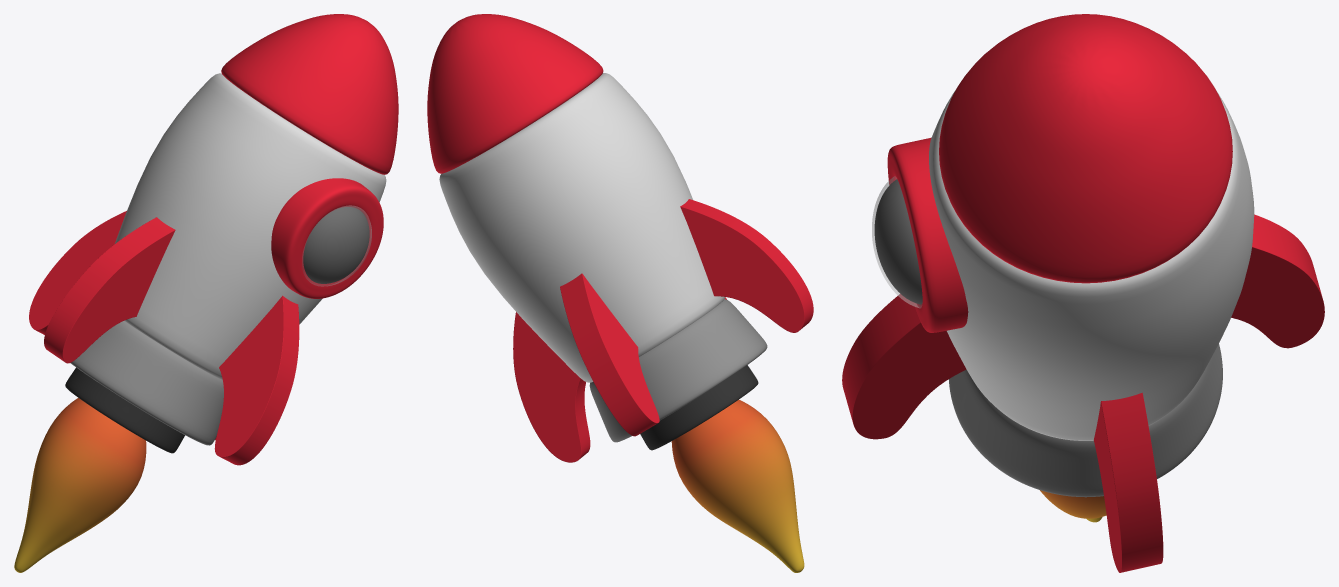
File: rocket.fbx
The picture shows the model from 3 angles, left to right: view 1: azimuth 30°, elevation 25°; view 2: azimuth 150°, elevation 25°; view 3: azimuth 270°, elevation 25°; orthographic projection. The views are drawn at different scales.
Parts seen in each view (by area): view 1: Cylinder, Line03.003, Sphere, Vert.003, Cylinder.001, Cylinder.003, Sphere.001, Sphere.002, Cylinder.002; view 2: Cylinder, Line03.003, Sphere, Vert.003, Cylinder.001, Cylinder.002; view 3: Sphere, Cylinder, Line03.003, Cylinder.001, Cylinder.003, Sphere.001, Sphere.002, Vert.003.
Part boxes in pixels (x1,y1,x2,y2): Cylinder: [115, 73, 386, 380]; Line03.003: [29, 211, 299, 465]; Sphere: [221, 14, 398, 174]; Vert.003: [14, 398, 146, 572]; Cylinder.001: [70, 321, 223, 445]; Cylinder.003: [271, 178, 383, 298]; Sphere.001: [302, 205, 371, 286]; Sphere.002: [303, 207, 369, 283]; Cylinder.002: [65, 367, 184, 453]; Cylinder: [439, 73, 725, 382]; Line03.003: [513, 199, 813, 462]; Sphere: [427, 14, 603, 173]; Vert.003: [671, 400, 804, 572]; Cylinder.001: [589, 299, 767, 442]; Cylinder.002: [640, 365, 758, 450]; Sphere: [939, 14, 1232, 283]; Cylinder: [929, 90, 1254, 440]; Line03.003: [842, 214, 1324, 572]; Cylinder.001: [948, 344, 1222, 497]; Cylinder.003: [887, 137, 968, 332]; Sphere.001: [872, 176, 922, 307]; Sphere.002: [874, 179, 922, 304]; Vert.003: [1040, 490, 1106, 522].
Bounding box in the file's own units: 213 × 264 × 162.
Materials: 6 (1 with a texture image).
